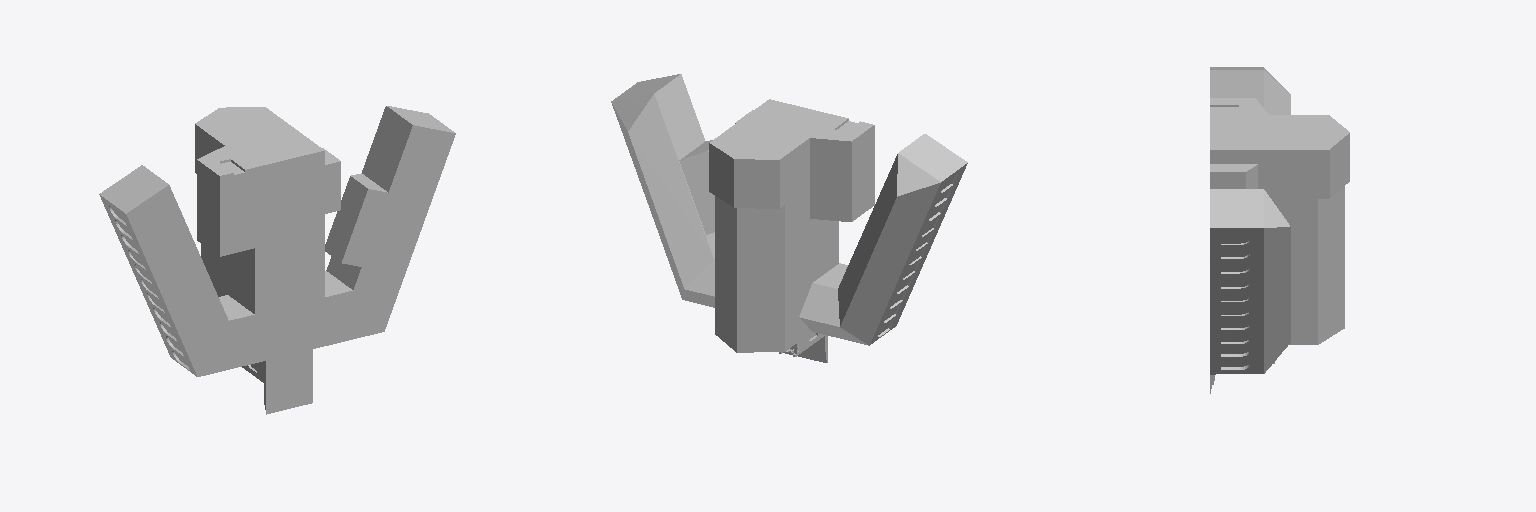
File: Resursa.obj
3 views of the same model, side by side, from view 1: azimuth 30°, elevation 25°; view 2: azimuth 150°, elevation 25°; view 3: azimuth 270°, elevation 25° (orthographic).
Visible parts, largest first — view 1: Resursa_obj_0; view 2: Resursa_obj_0; view 3: Resursa_obj_0.
Boxes of the visible parts, box(x1,y1,x2,y2) form: Resursa_obj_0: box(99, 106, 455, 414); Resursa_obj_0: box(611, 74, 967, 362); Resursa_obj_0: box(1210, 67, 1349, 393).
Bounding box in the file's own units: 0.0417 × 0.0306 × 0.0154.